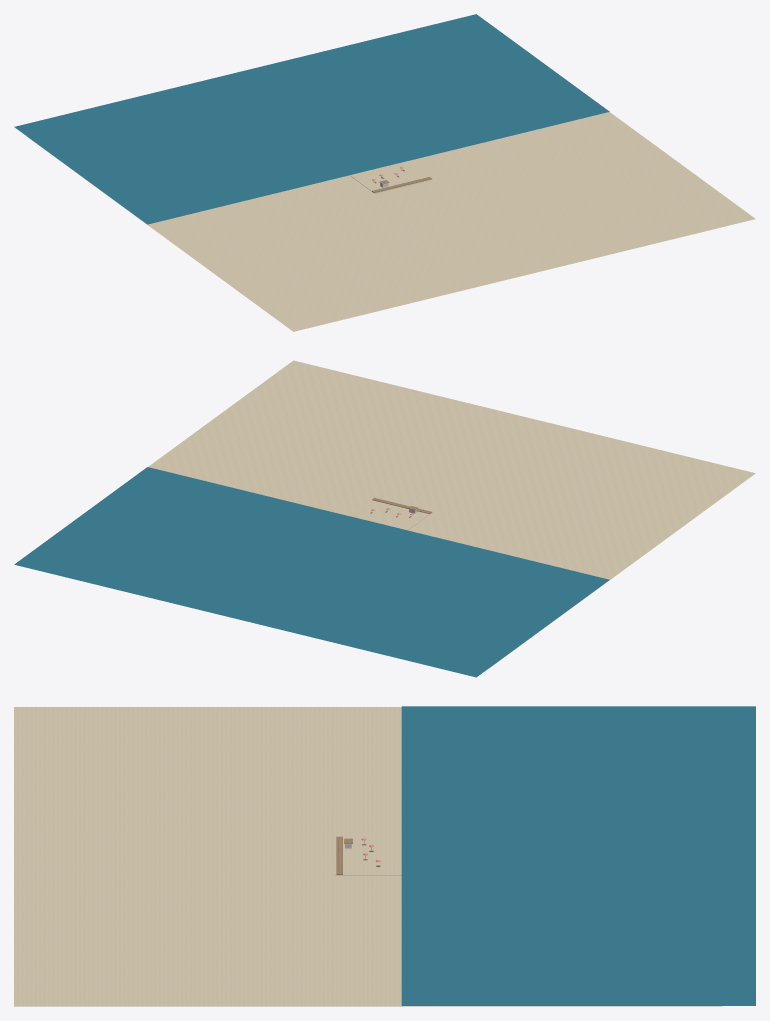
The model's file is boardwalk.glb.
3 renders of one model, top to bottom at view 1: azimuth 30°, elevation 25°; view 2: azimuth 150°, elevation 25°; view 3: azimuth 270°, elevation 25°, orthographic. The views are drawn at different scales.
Parts seen in each view (by area): view 1: backdrop, sea, sand; view 2: backdrop, sea, sand; view 3: backdrop, sea, sand.
Part boxes in pixels (box(x1,y1,x2,y2)): backdrop: box(27, 112, 755, 331); sea: box(14, 14, 609, 224); sand: box(350, 161, 432, 193); backdrop: box(148, 360, 755, 668); sea: box(14, 467, 609, 677); sand: box(350, 500, 432, 530); backdrop: box(14, 707, 722, 1006); sea: box(401, 706, 755, 1005); sand: box(335, 837, 401, 875).
Size of what is drawn, in the model's own units: 320 by 3.1 by 335.
6 materials, 3 textured.
